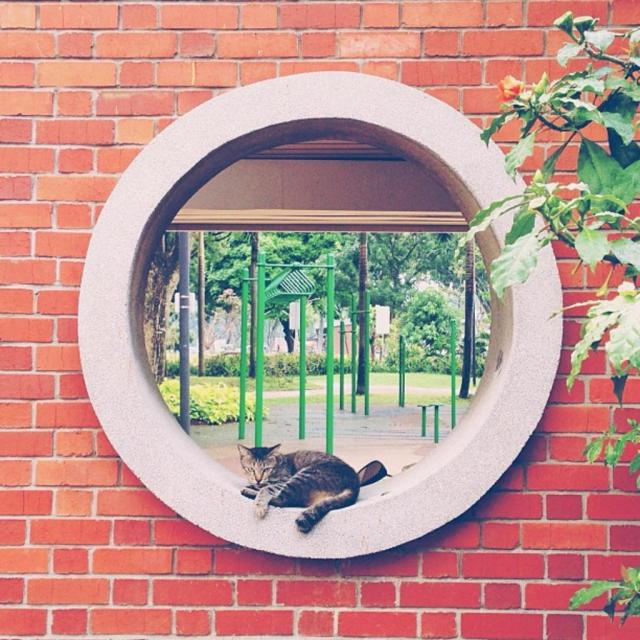Cat: (236, 431, 364, 537)
